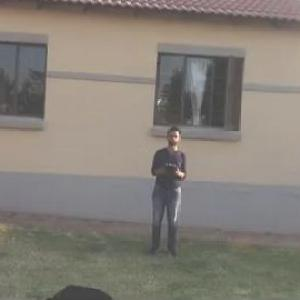follow: (141, 118, 187, 264)
null: (34, 280, 123, 299)
